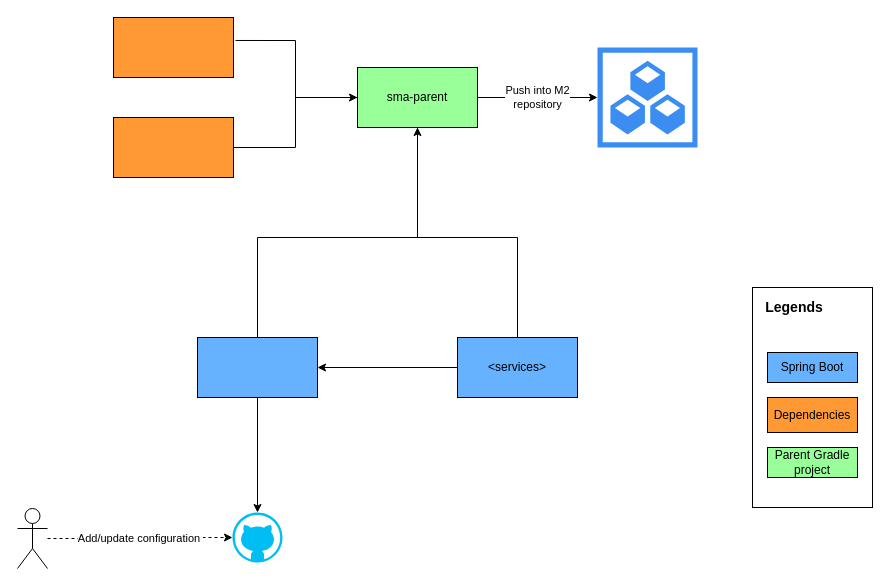
This 890x586 diagram has some shape labels left out. The shapes that lost their labels are listed below. From the top down, each one's box as (x1, y1, x2, y2) in pixels, then its label:
(112, 16, 234, 78): Spring cloud dependencies
(112, 116, 234, 178): Spring boot dependencies
(196, 336, 318, 398): config-server
